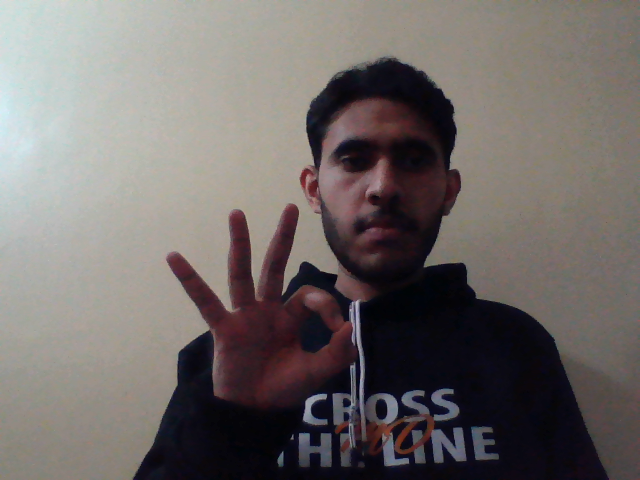F: (159, 202, 363, 412)
